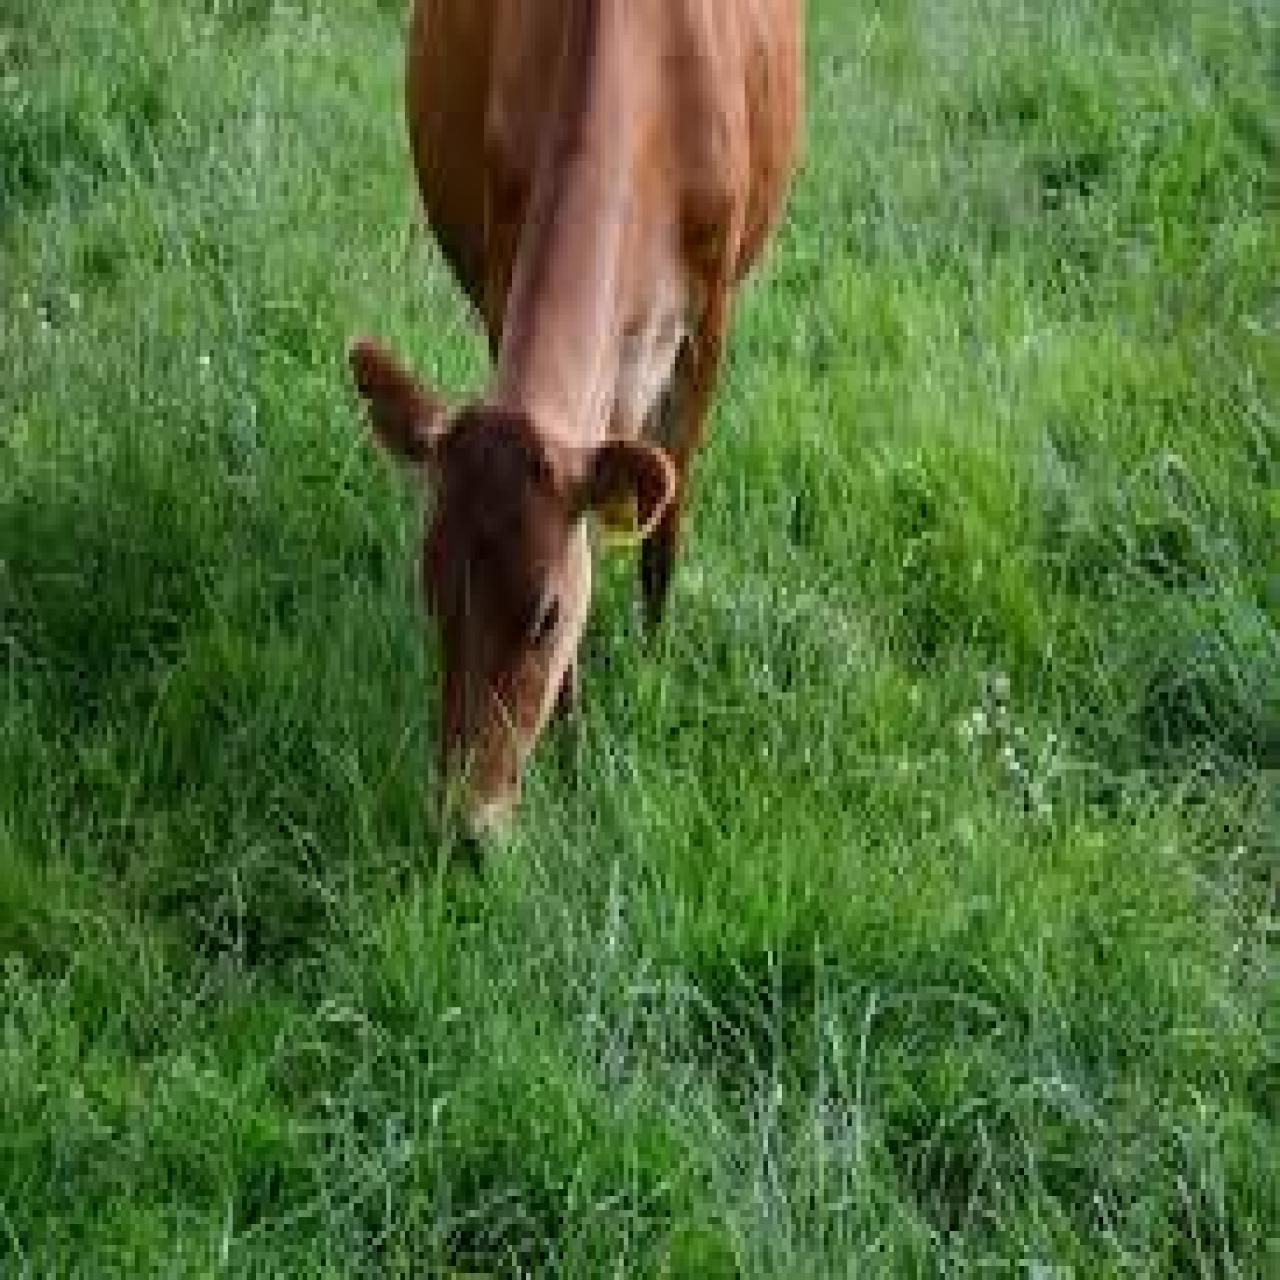cow: (346, 0, 812, 853)
